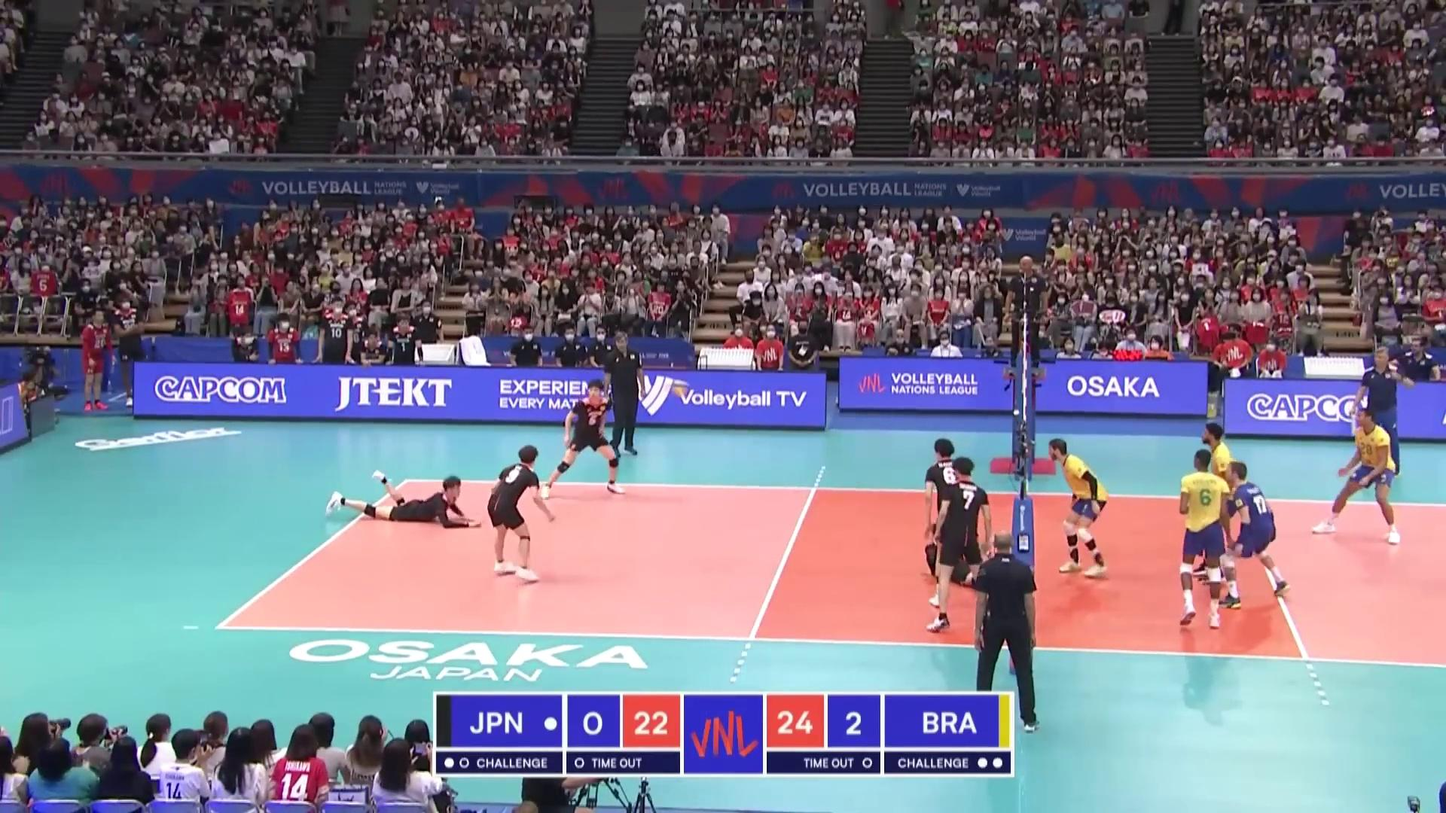player: (1310, 409, 1400, 545), (1220, 461, 1289, 611), (540, 381, 624, 497), (1175, 449, 1228, 628), (324, 471, 480, 529), (489, 447, 555, 584), (938, 459, 989, 636), (1049, 438, 1109, 577), (928, 436, 971, 606), (1196, 423, 1237, 586), (925, 525, 1020, 595)
refree: (972, 529, 1043, 734), (1005, 254, 1047, 378)
